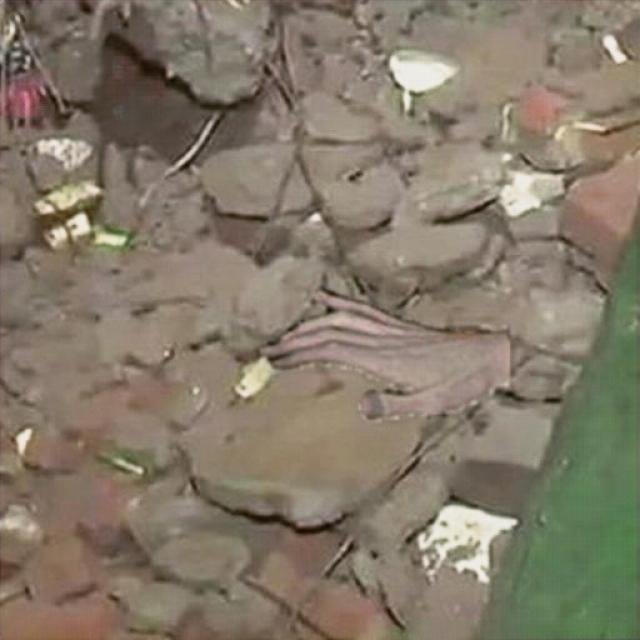Person in Rubble: (260, 288, 509, 420)
